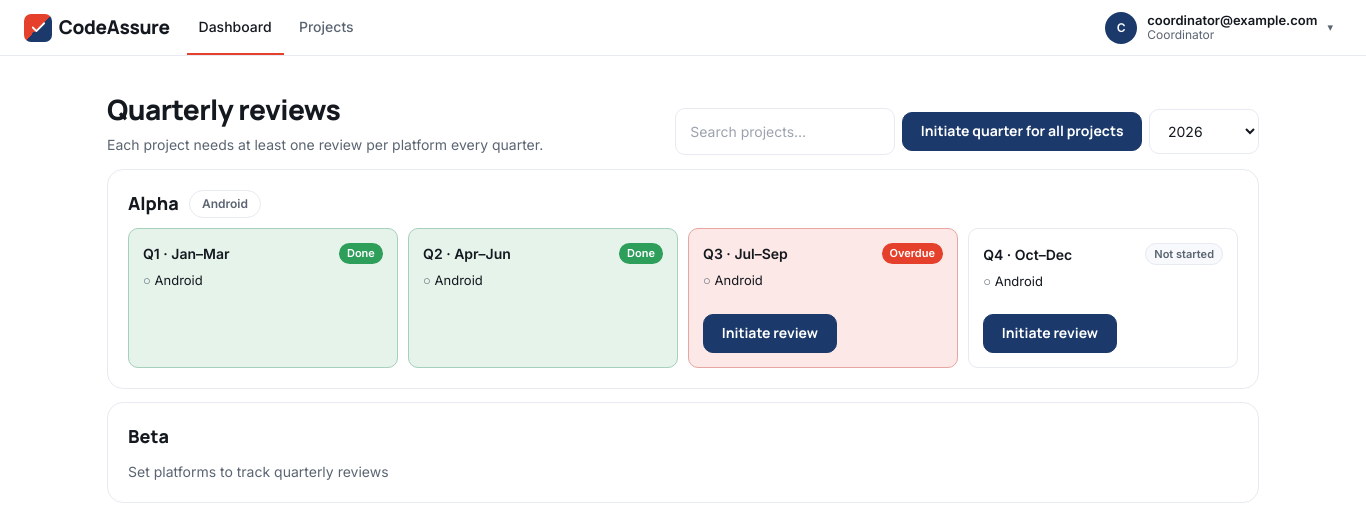
Scenario: a failed year load does not leave the previous year's cards behind
Expected: the element "Alpha" is shown, [107,169,1259,389]
Select "2025" in the dropdown named "Year" at (1204, 132), box [1149,109,1259,154]
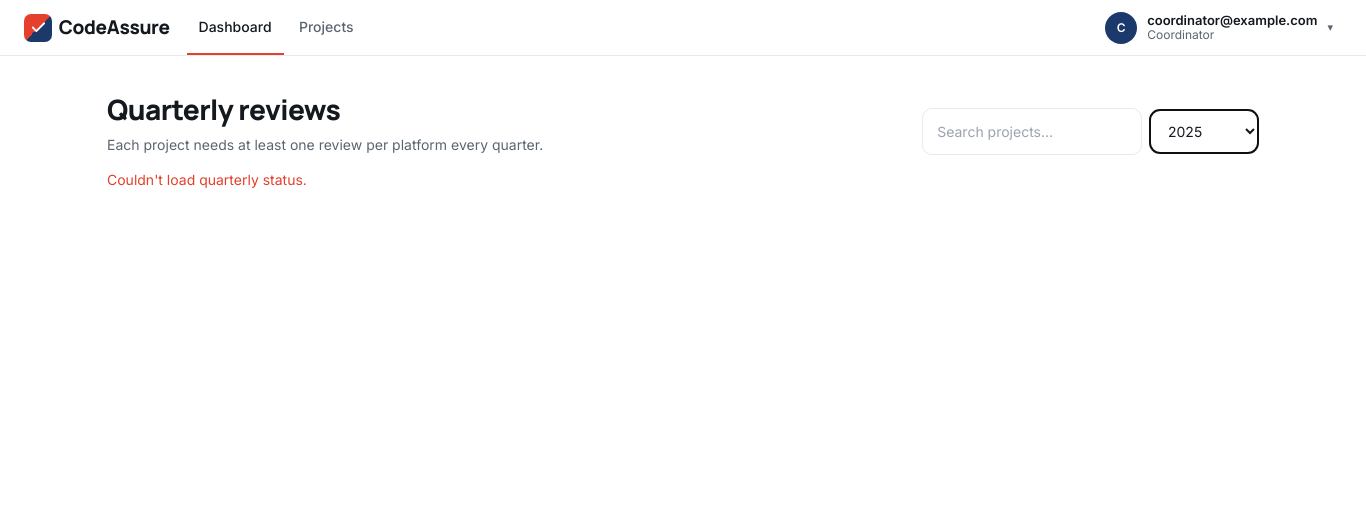
Expected: the text "Couldn't load quarterly status." is shown, [107,171,307,188]
Expected: the text "Alpha" is gone
